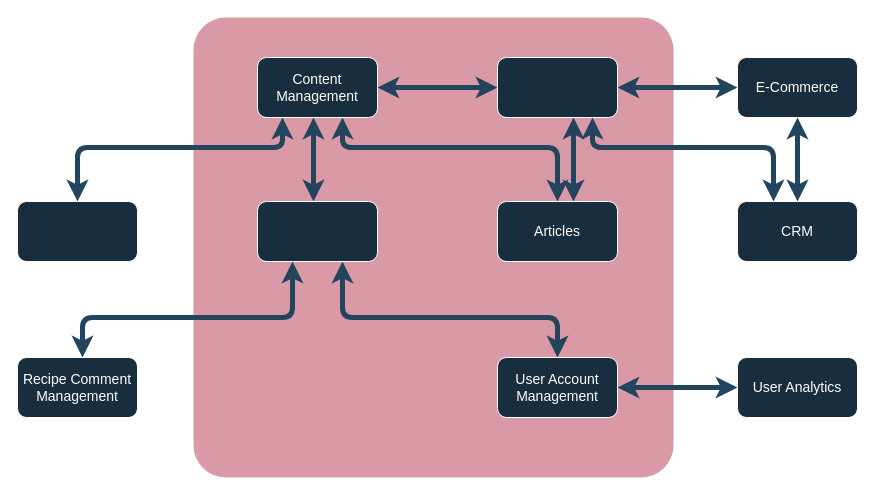
The diagram is 875 pixels wide and 494 high, and some of its shapes have lost their labels. Here are the shapes that lost their labels. From the top down, the box of each, then its label:
(496, 56, 618, 118): Staff Account Management
(16, 200, 138, 262): Video Hosting
(256, 200, 378, 262): Recipes
